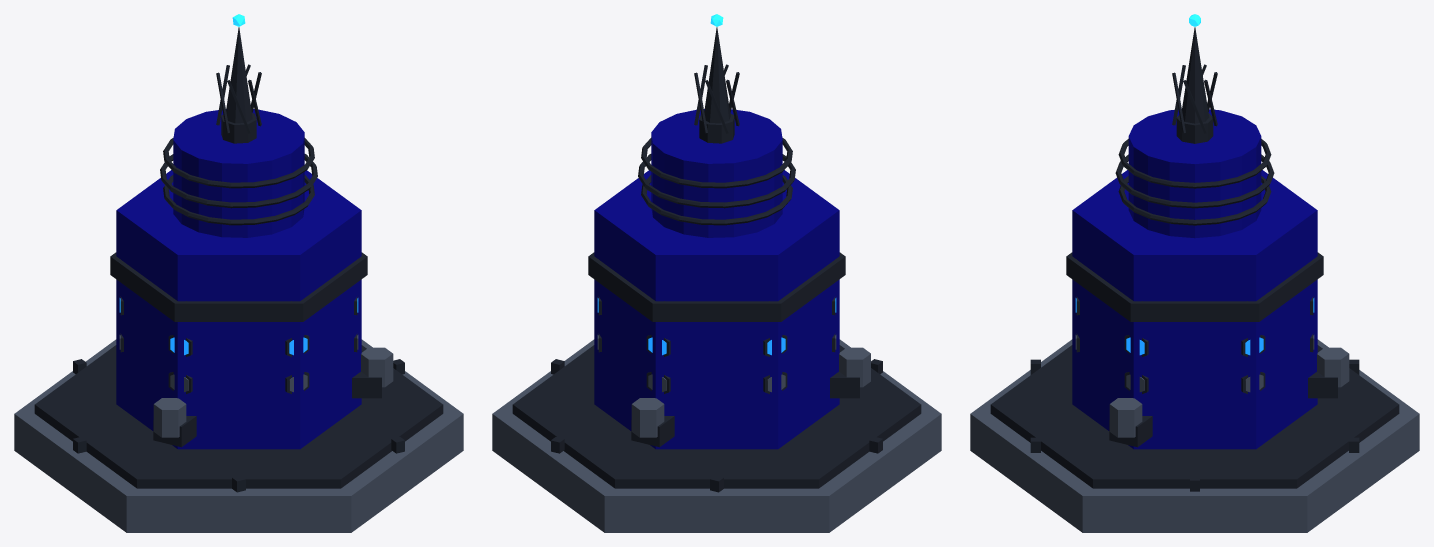
The model's file is hcmut_hq.glb.
The picture shows the model from 3 angles, left to right: view 1: azimuth 30°, elevation 25°; view 2: azimuth 150°, elevation 25°; view 3: azimuth 270°, elevation 25°; orthographic projection.
Visible parts, largest first — view 1: HCMUT_HexCore, HCMUT_Plinth, HCMUT_Plinth_Rim, HCMUT_ReactorShell, HCMUT_CoreBand, HCMUT_Antenna, HCMUT_Ring2, HCMUT_Ring3, HCMUT_Ring1, HCMUT_Louver_1, HCMUT_Louver_2, HCMUT_AntennaBase (+2 smaller); view 2: HCMUT_HexCore, HCMUT_Plinth, HCMUT_Plinth_Rim, HCMUT_ReactorShell, HCMUT_CoreBand, HCMUT_Antenna, HCMUT_Ring2, HCMUT_Ring3, HCMUT_Ring1, HCMUT_Louver_0, HCMUT_Louver_1, HCMUT_AntennaBase (+2 smaller); view 3: HCMUT_HexCore, HCMUT_Plinth, HCMUT_Plinth_Rim, HCMUT_ReactorShell, HCMUT_CoreBand, HCMUT_Antenna, HCMUT_Ring2, HCMUT_Ring3, HCMUT_Louver_2, HCMUT_Ring1, HCMUT_Louver_0, HCMUT_AntennaBase (+2 smaller).
Boxes of the visible parts, box(x1,y1,x2,y2) form: HCMUT_HexCore: box(116, 170, 361, 449); HCMUT_Plinth: box(14, 339, 463, 532); HCMUT_Plinth_Rim: box(34, 345, 443, 488); HCMUT_ReactorShell: box(173, 109, 304, 237); HCMUT_CoreBand: box(110, 252, 367, 321); HCMUT_Antenna: box(226, 27, 252, 123); HCMUT_Ring2: box(160, 154, 317, 208); HCMUT_Ring3: box(163, 137, 314, 188); HCMUT_Ring1: box(163, 175, 314, 225); HCMUT_Louver_1: box(153, 398, 186, 437); HCMUT_Louver_2: box(361, 347, 393, 387); HCMUT_AntennaBase: box(221, 113, 256, 143); HCMUT_HexCore: box(594, 170, 839, 449); HCMUT_Plinth: box(492, 339, 941, 532); HCMUT_Plinth_Rim: box(512, 345, 921, 488); HCMUT_ReactorShell: box(651, 109, 782, 237); HCMUT_CoreBand: box(588, 252, 845, 321); HCMUT_Antenna: box(704, 27, 730, 123); HCMUT_Ring2: box(638, 154, 795, 208); HCMUT_Ring3: box(641, 137, 792, 188); HCMUT_Ring1: box(641, 175, 792, 225); HCMUT_Louver_0: box(631, 398, 664, 437); HCMUT_Louver_1: box(839, 347, 870, 387); HCMUT_AntennaBase: box(699, 113, 734, 143); HCMUT_HexCore: box(1072, 170, 1317, 449); HCMUT_Plinth: box(970, 339, 1419, 532); HCMUT_Plinth_Rim: box(990, 345, 1399, 488); HCMUT_ReactorShell: box(1128, 109, 1261, 238); HCMUT_CoreBand: box(1066, 252, 1323, 321); HCMUT_Antenna: box(1182, 27, 1209, 123); HCMUT_Ring2: box(1115, 154, 1274, 208); HCMUT_Ring3: box(1118, 139, 1271, 188); HCMUT_Louver_2: box(1109, 398, 1142, 437); HCMUT_Ring1: box(1118, 176, 1271, 225); HCMUT_Louver_0: box(1317, 347, 1349, 387); HCMUT_AntennaBase: box(1176, 113, 1213, 143).
Size of the model in its own units: 38.1 by 47.2 by 44.
